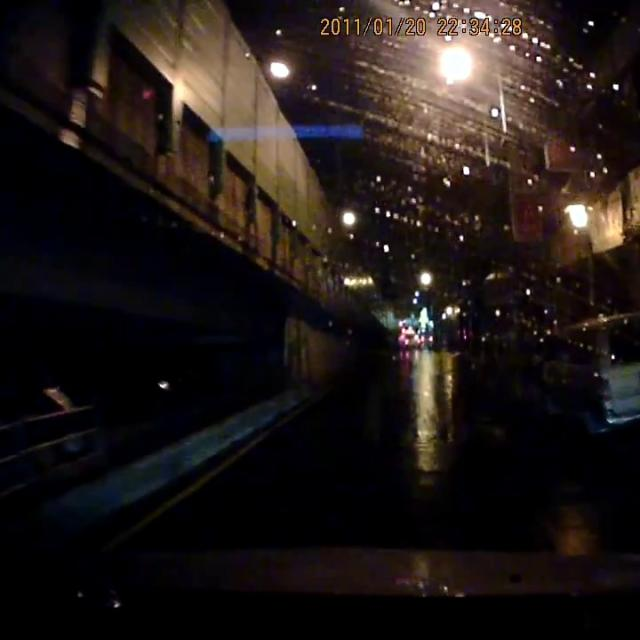Car: (532, 308, 639, 436)
